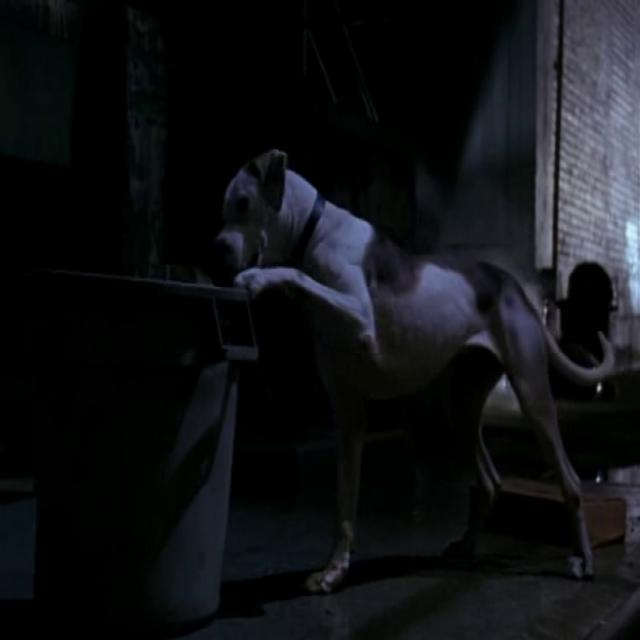Dog: (149, 108, 640, 589)
